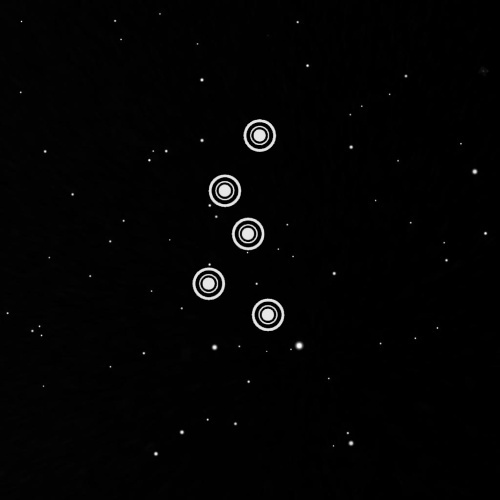cassiopeia: (186, 106, 293, 337)
